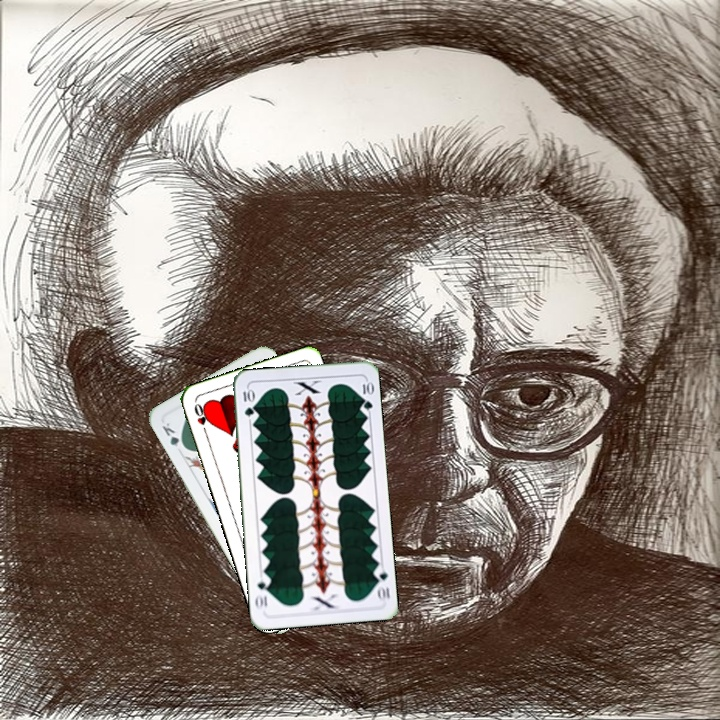G10: (370, 563, 392, 604), (239, 385, 256, 419)
GK: (158, 418, 189, 452)
HO: (190, 399, 210, 439)
